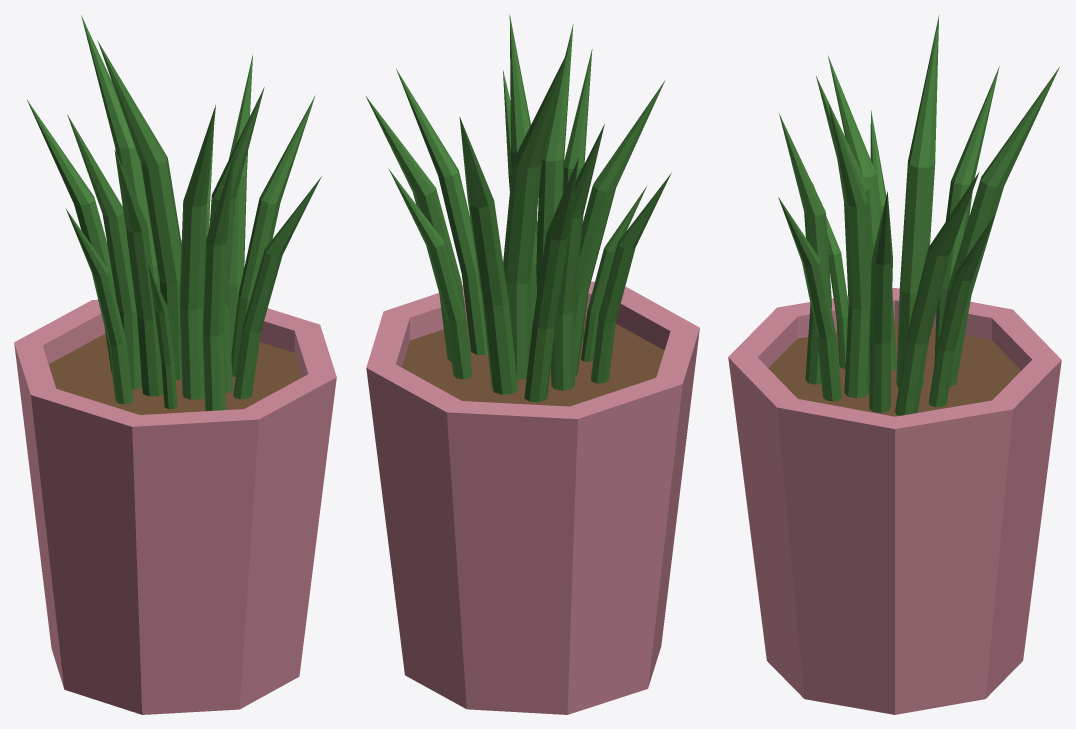
File: Flower_16.fbx
3 renders of one model, left to right at view 1: azimuth 30°, elevation 25°; view 2: azimuth 150°, elevation 25°; view 3: azimuth 270°, elevation 25°, orthographic. The views are drawn at different scales.
Visible parts, largest first — view 1: Flower_16; view 2: Flower_16; view 3: Flower_16.
Part boxes in pixels (x1,y1,x2,y2): Flower_16: (14, 15, 336, 714); Flower_16: (366, 14, 699, 714); Flower_16: (728, 14, 1061, 714).
Size of the model in its own units: 40.66 by 40.66 by 83.31.
